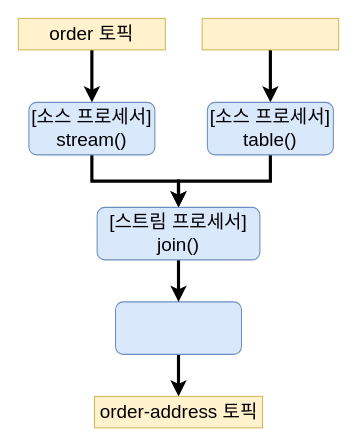
Image size: 357x446. Some labels were removed from this diagram. The shapes that lost their labels are listed below. From the top down, each one's centre as x and y in pixels, then its label:
At point 270,33: "address 토픽".
At point 178,327: "[싱크 프로세서] to()".
